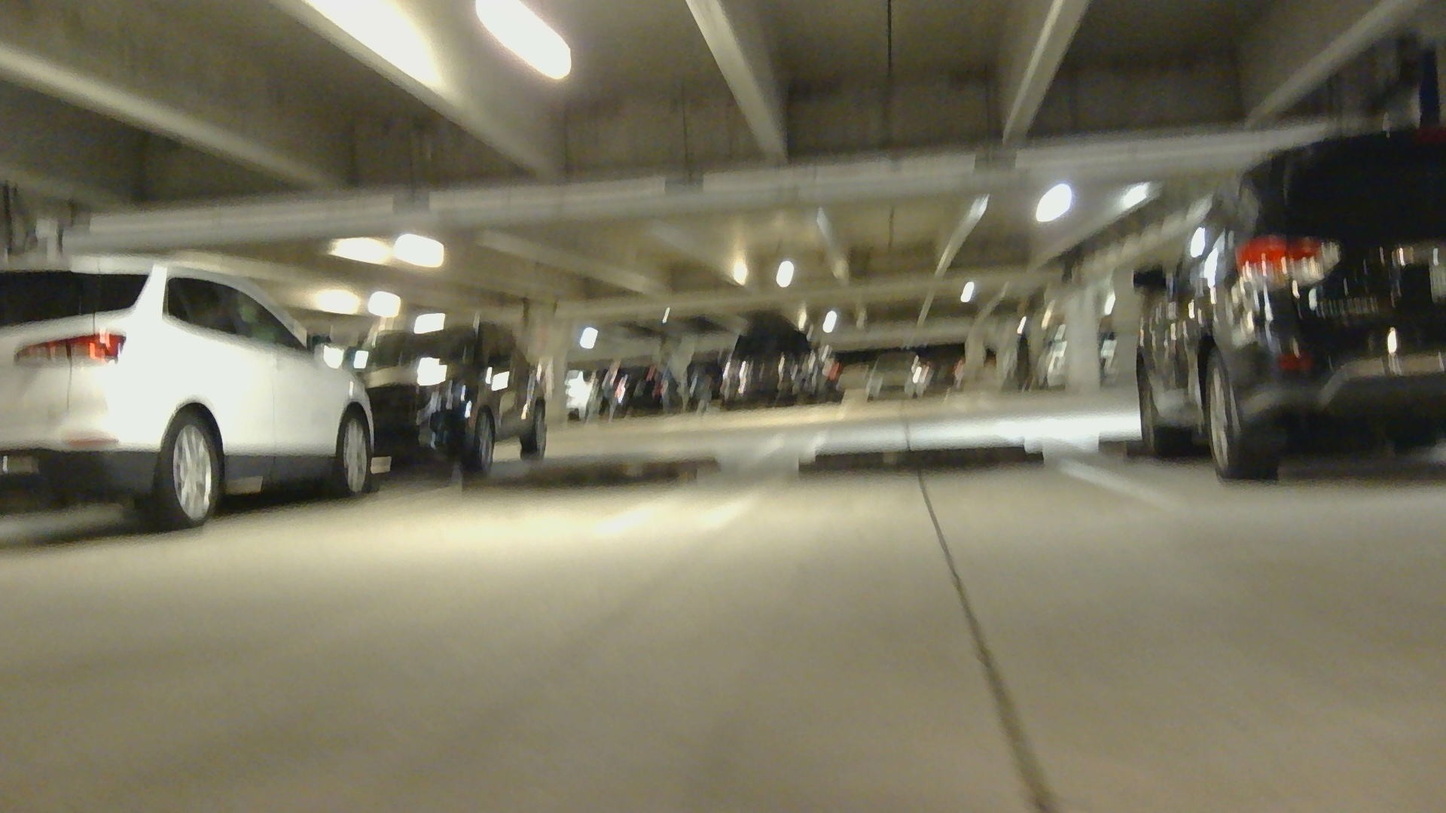empty_spot: (718, 447, 1174, 540), (258, 462, 713, 545)
occupied_spot: (1107, 136, 1446, 494), (3, 257, 383, 545)
